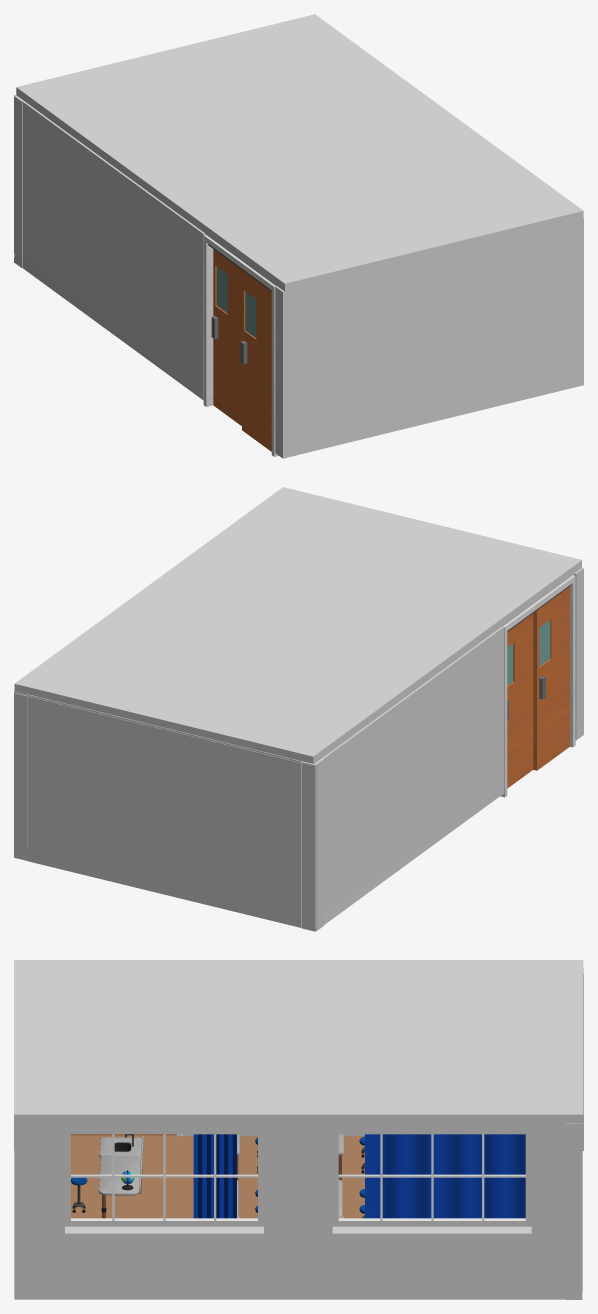
The model's file is chemestry_lab_glb.glb.
3 views of the same model, one above another, from view 1: azimuth 30°, elevation 25°; view 2: azimuth 150°, elevation 25°; view 3: azimuth 270°, elevation 25° (orthographic). The views are drawn at different scales.
Visible parts, largest first — view 1: ceiling, CHEMISTRYlabdemoscene_3, column.002, ClassRoomDoor_8.001, ClassRoomDoor_10.001, column.001, DoorClassroom_1, column.004; view 2: ceiling, column.003, column.002, ClassRoomDoor_8.001, ClassRoomDoor_10.001, column.005, DoorClassroom_1, column.001, column.004; view 3: ceiling, CHEMISTRYlabdemoscene_3, CHEMISTRYlabdemoscene_4, CHEMISTRYlabdemoscene_5, column.005, CHEMISTRYlabdemoscene_2, CHEMISTRYlabdemoscene_1.
Boxes of the visible parts, box(x1,y1,x2,y2) form: ceiling: box(16, 14, 583, 291); CHEMISTRYlabdemoscene_3: box(296, 219, 583, 454); column.002: box(14, 95, 205, 400); ClassRoomDoor_8.001: box(240, 270, 271, 451); ClassRoomDoor_10.001: box(211, 249, 241, 425); column.001: box(275, 286, 296, 458); DoorClassroom_1: box(203, 235, 278, 456); column.004: box(14, 96, 22, 267); ceiling: box(14, 487, 581, 765); column.003: box(27, 694, 306, 927); column.002: box(301, 626, 504, 931); ClassRoomDoor_8.001: box(533, 586, 569, 770); ClassRoomDoor_10.001: box(507, 613, 533, 788); column.005: box(14, 691, 27, 860); DoorClassroom_1: box(500, 575, 575, 797); column.001: box(574, 568, 583, 740); column.004: box(315, 759, 323, 931); ceiling: box(14, 960, 583, 1124); CHEMISTRYlabdemoscene_3: box(14, 1123, 565, 1299); CHEMISTRYlabdemoscene_4: box(365, 1134, 525, 1218); CHEMISTRYlabdemoscene_5: box(193, 1134, 236, 1218); column.005: box(565, 1123, 582, 1299); CHEMISTRYlabdemoscene_2: box(98, 1134, 143, 1218); CHEMISTRYlabdemoscene_1: box(237, 1134, 343, 1218).
Bounding box in the file's own units: 6.72 × 3.8 × 10.36.
Materials: 10 (9 with a texture image).
